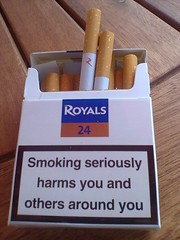cigarette: (8, 48, 165, 232), (78, 8, 102, 91), (93, 29, 115, 90), (123, 53, 137, 89), (44, 72, 60, 92), (60, 72, 74, 92)
